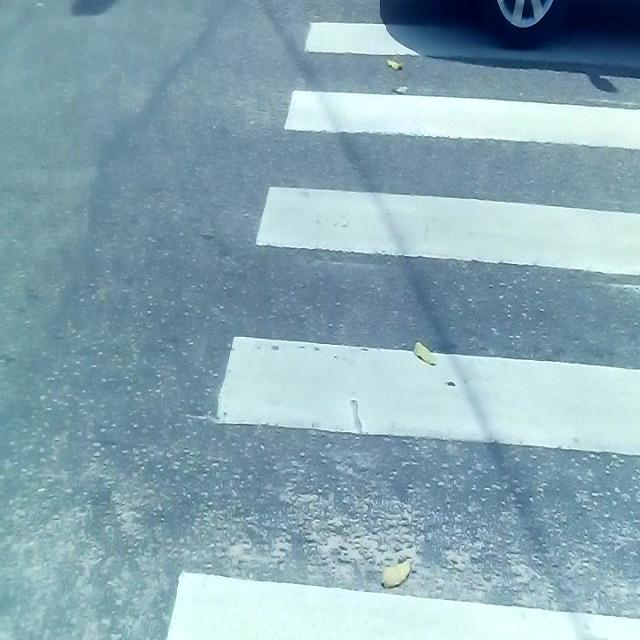crosswalk: (156, 0, 640, 640)
